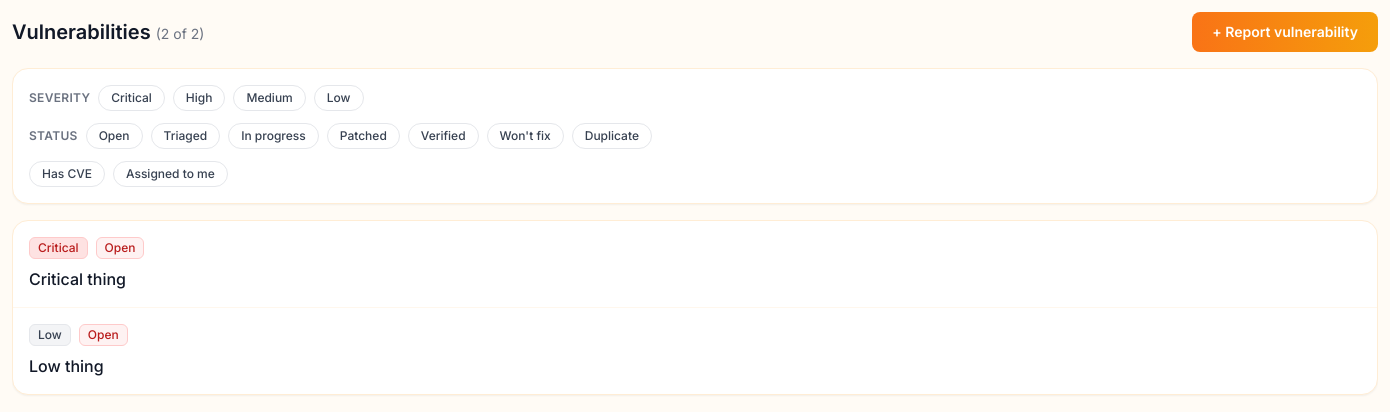
Test: VulnerabilitiesList › filters by severity
This screenshot has width=1390, height=412.
Check: the text "Critical thing" is shown, box [29,269,126,289]
Check: the text "Low thing" is shown, box [29,356,104,376]
Click the button "Critical" at (132, 98), box [98,85,165,111]
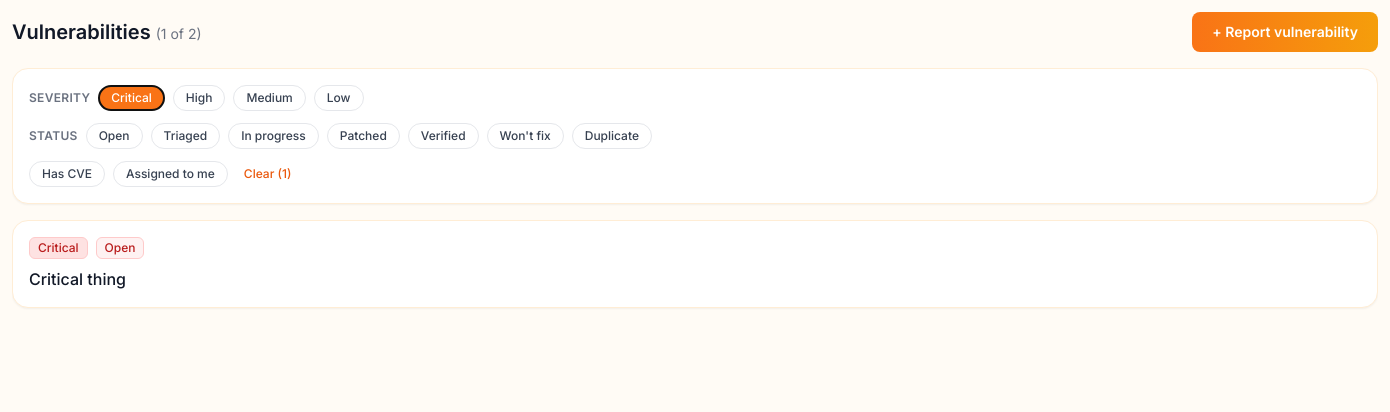
Check: the text "Critical thing" is shown, box [29,269,126,289]
Check: the link "Low thing" is gone
